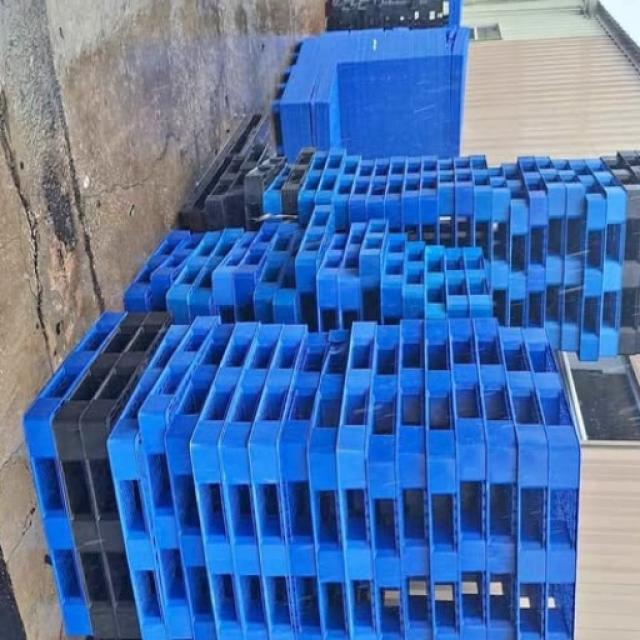non-igps: (18, 306, 132, 640), (45, 305, 157, 640), (74, 304, 180, 640), (132, 308, 227, 640), (102, 317, 194, 640), (156, 312, 246, 640), (181, 314, 270, 640), (240, 314, 314, 640), (515, 323, 591, 640), (212, 315, 286, 640), (274, 327, 338, 640), (493, 318, 555, 640), (465, 307, 524, 640), (441, 311, 498, 640), (390, 312, 446, 640), (332, 315, 388, 640), (360, 316, 416, 640), (301, 323, 358, 640), (417, 310, 471, 640), (174, 106, 275, 236), (579, 153, 633, 362), (563, 156, 613, 367), (593, 152, 640, 360), (546, 154, 589, 356), (531, 150, 570, 357), (513, 149, 553, 331), (118, 225, 196, 318), (183, 222, 248, 331), (230, 214, 292, 326), (162, 225, 228, 330), (498, 159, 536, 333), (248, 217, 305, 328), (206, 226, 265, 326), (148, 227, 212, 319), (266, 221, 316, 327), (484, 162, 515, 332), (290, 200, 339, 300), (466, 150, 498, 298), (334, 217, 373, 336), (314, 228, 351, 340), (377, 226, 413, 332), (278, 141, 320, 226), (292, 148, 332, 234), (326, 151, 364, 240), (459, 242, 498, 322), (357, 214, 394, 296), (450, 153, 480, 252), (309, 144, 351, 214), (399, 236, 431, 326), (397, 152, 427, 248), (441, 242, 475, 324), (258, 158, 298, 226), (380, 150, 410, 239), (434, 156, 461, 253), (362, 151, 394, 228), (421, 240, 449, 326), (346, 154, 378, 229), (418, 151, 442, 249), (615, 138, 640, 206)
